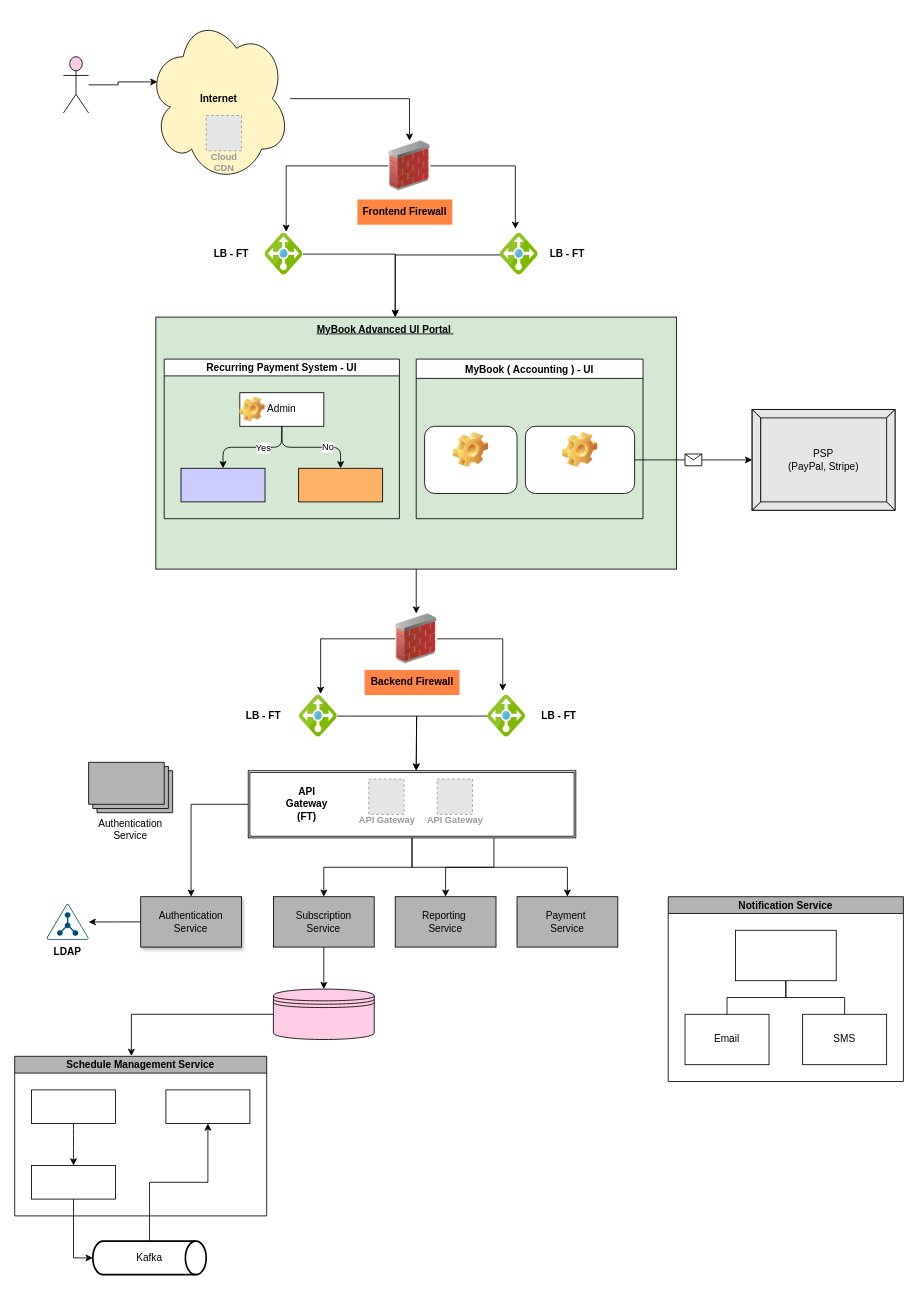
Some shapes in this 918 by 1290 pixel diagram are drawn without their labels. Grey dashed boxes stand in for pictures. The centre of each missing label's shape, as x and y in pixels:
Actor: the point at 76,84
Core Accounting: the point at 470,459
Customer: the point at 340,484
Merchant: the point at 222,484
Payment Processing: the point at 580,459
Scheduler: the point at 73,1182
Send Notification: the point at 785,955
Start: the point at 73,1106
Subscription DB: the point at 323,1014
Worker Nodes: the point at 207,1106
